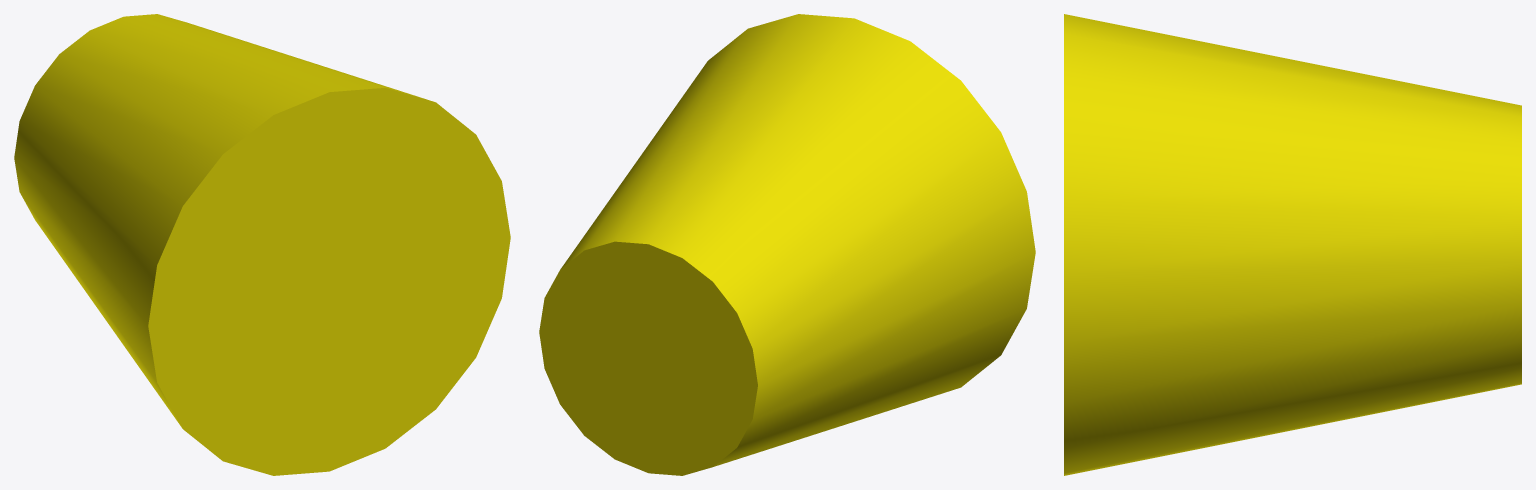
The model's file is Light.fbx.
3 renders of one model, left to right at view 1: azimuth 30°, elevation 25°; view 2: azimuth 150°, elevation 25°; view 3: azimuth 270°, elevation 25°, orthographic. The views are drawn at different scales.
Visible parts, largest first — view 1: pCylinder1; view 2: pCylinder1; view 3: pCylinder1.
Boxes of the visible parts, x1,y1,x2,y2 form: pCylinder1: [14, 14, 510, 475]; pCylinder1: [539, 14, 1035, 475]; pCylinder1: [1064, 14, 1521, 475].
Bounding box in the file's own units: 0.7576 × 0.7576 × 0.7452.
